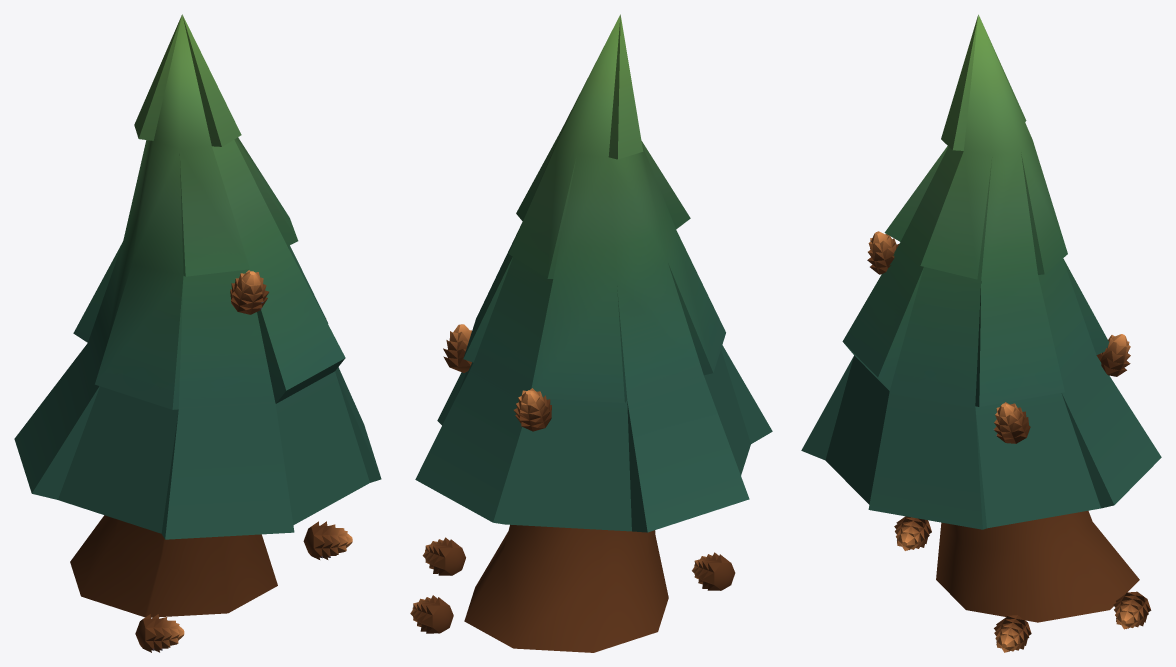
Rendered from Tree04.FBX.
The picture shows the model from 3 angles, left to right: view 1: azimuth 30°, elevation 25°; view 2: azimuth 150°, elevation 25°; view 3: azimuth 270°, elevation 25°; orthographic projection. The views are drawn at different scales.
Visible parts, largest first — view 1: polySurface56, polySurface57, Cylinder006, Cylinder004, Cylinder002; view 2: polySurface56, polySurface57, Cylinder005, Cylinder004, Cylinder006, Cylinder001, Cylinder003; view 3: polySurface56, polySurface57, Cylinder003, Cylinder004, Cylinder005, Cylinder006, Cylinder001, Cylinder002.
Boxes of the visible parts, left/top/right/bottom form: polySurface56: left=14, top=14, right=381, bottom=539; polySurface57: left=70, top=515, right=277, bottom=617; Cylinder006: left=135, top=614, right=184, bottom=652; Cylinder004: left=303, top=521, right=352, bottom=559; Cylinder002: left=230, top=270, right=268, bottom=314; polySurface56: left=415, top=14, right=772, bottom=532; polySurface57: left=464, top=524, right=668, bottom=652; Cylinder005: left=410, top=595, right=453, bottom=633; Cylinder004: left=422, top=537, right=465, bottom=575; Cylinder006: left=692, top=552, right=735, bottom=590; Cylinder001: left=513, top=388, right=551, bottom=431; Cylinder003: left=443, top=324, right=471, bottom=372; polySurface56: left=801, top=14, right=1161, bottom=529; polySurface57: left=936, top=510, right=1139, bottom=622; Cylinder003: left=993, top=402, right=1030, bottom=443; Cylinder004: left=994, top=615, right=1031, bottom=652; Cylinder005: left=1113, top=591, right=1151, bottom=629; Cylinder006: left=894, top=516, right=931, bottom=550; Cylinder001: left=1096, top=334, right=1130, bottom=376; Cylinder002: left=867, top=231, right=898, bottom=274.
Size of the model in its own units: 64.64 by 114 by 65.84.
